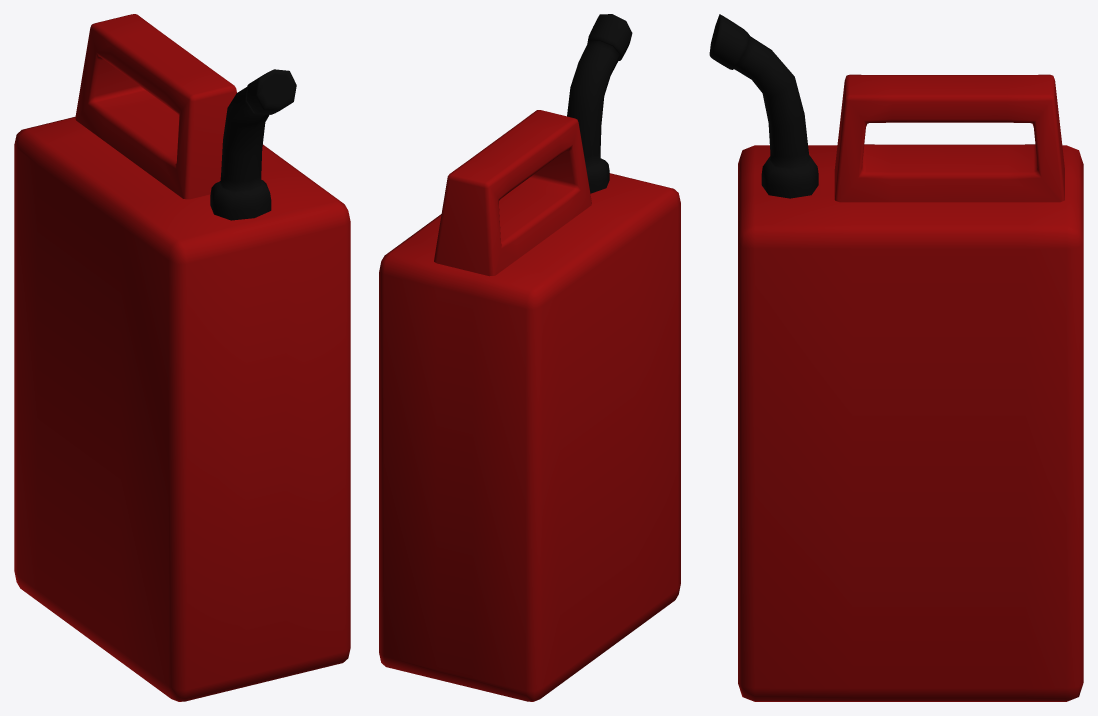
File: MSH_Gasolina.FBX
The picture shows the model from 3 angles, left to right: view 1: azimuth 30°, elevation 25°; view 2: azimuth 150°, elevation 25°; view 3: azimuth 270°, elevation 25°; orthographic projection. The views are drawn at different scales.
Parts seen in each view (by area): view 1: G_Contenedor-gasolina; view 2: G_Contenedor-gasolina; view 3: G_Contenedor-gasolina.
Part boxes in pixels (bbox=[...]): G_Contenedor-gasolina: bbox=[14, 14, 350, 701]; G_Contenedor-gasolina: bbox=[379, 14, 680, 701]; G_Contenedor-gasolina: bbox=[709, 14, 1083, 701].
Size of the model in its own units: 41.65 by 139 by 73.1.
